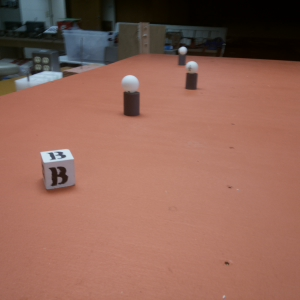obstacle: (122, 74, 140, 116), (188, 61, 198, 91), (176, 45, 188, 66)
